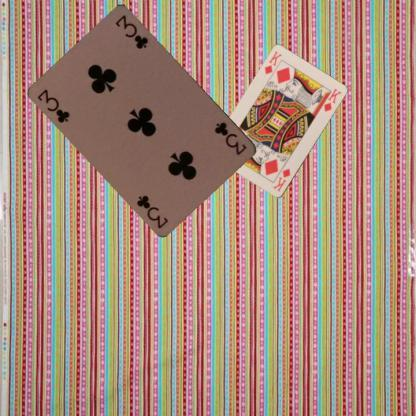3c: (34, 86, 72, 124), (212, 118, 248, 156)
Kd: (262, 48, 284, 76), (270, 166, 292, 193)
